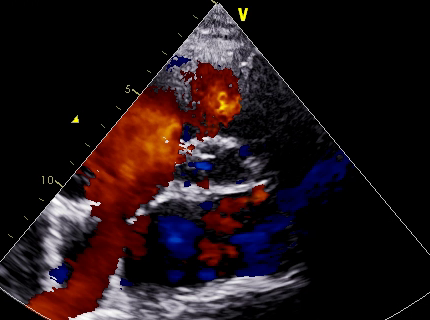TR: (134, 123, 215, 231)
